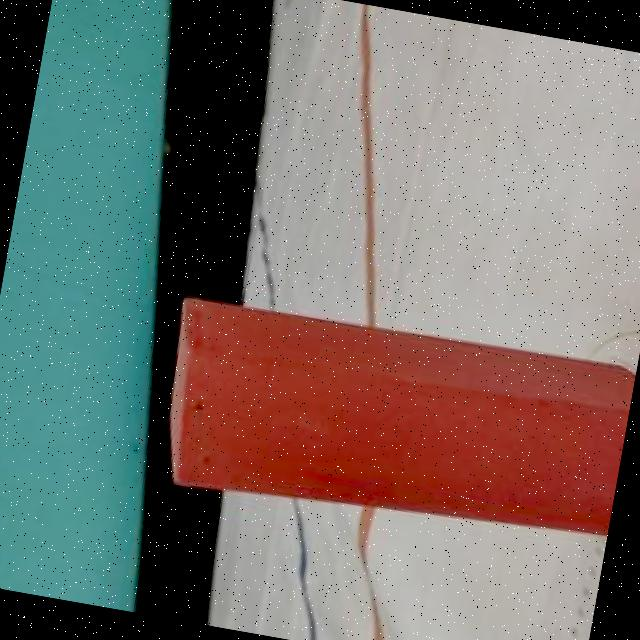redbox: (158, 296, 635, 534)
